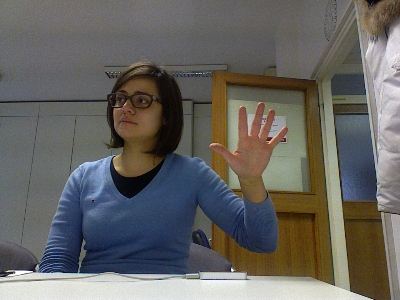布: (207, 101, 288, 179)
